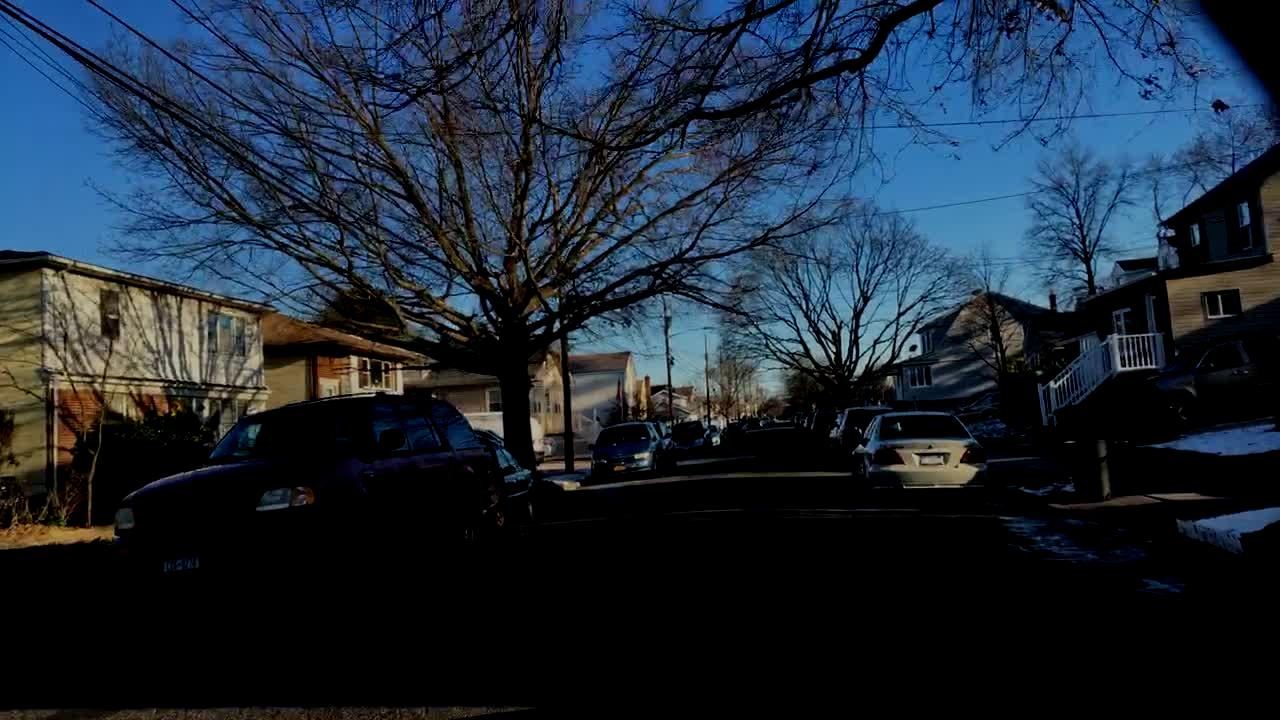ford: (166, 496, 203, 531)
